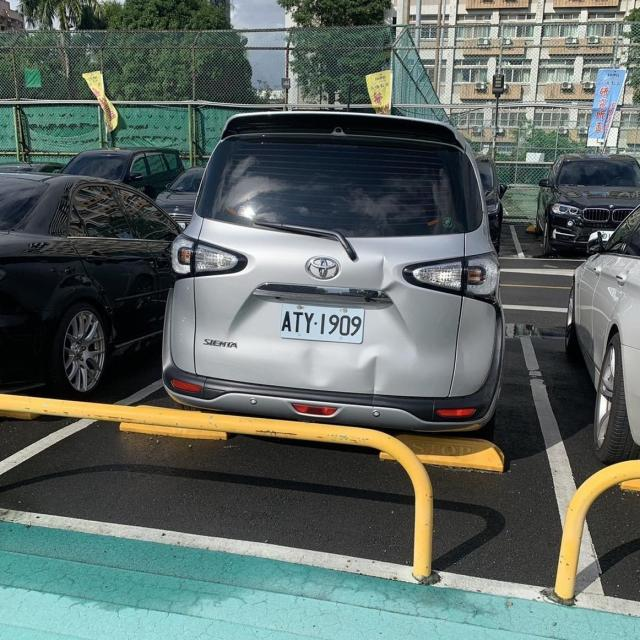W: (275, 297, 368, 346)
